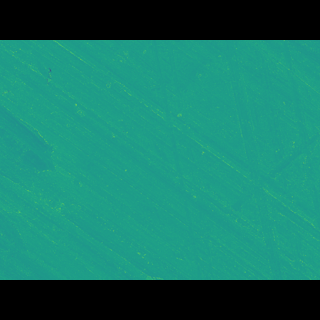Loch: (208, 67, 289, 250), (226, 68, 320, 220), (143, 69, 204, 250)
